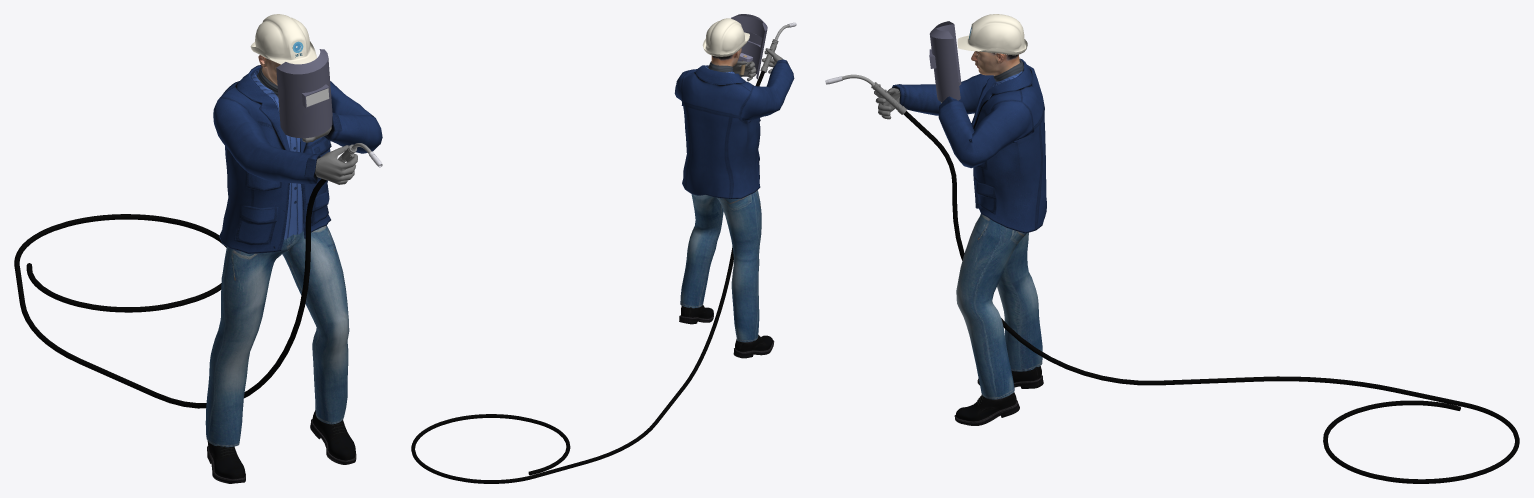
3 views of the same model, side by side, from view 1: azimuth 30°, elevation 25°; view 2: azimuth 150°, elevation 25°; view 3: azimuth 270°, elevation 25° (orthographic). The views are drawn at different scales.
Visible parts, largest first — view 1: FbxMesh (×6); view 2: FbxMesh (×6); view 3: FbxMesh (×6).
Boxes of the visible parts, box(x1,y1,x2,y2) form: FbxMesh (×6): box(14, 14, 382, 483); FbxMesh (×6): box(411, 14, 794, 483); FbxMesh (×6): box(892, 14, 1519, 483).
Bounding box in the file's own units: 1.05 × 1.81 × 2.89.
